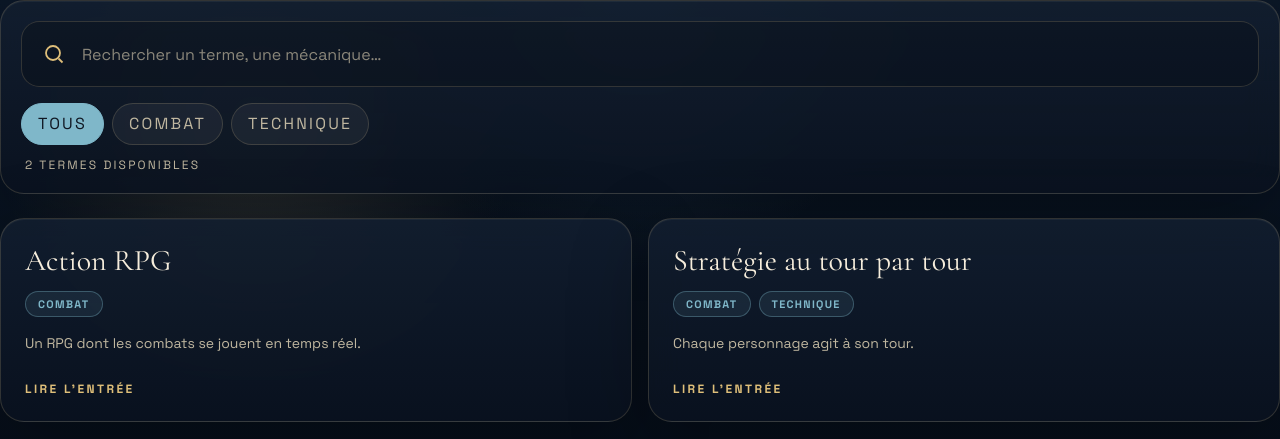
Test case: GlossaryIndex › filtre immédiatement les termes, sans tenir compte des accents
The image size is (1280, 439).
Type "strategie" into the search field.
click(660, 54); type("strategie")  # box x1=82 y1=22 x2=1238 y2=86
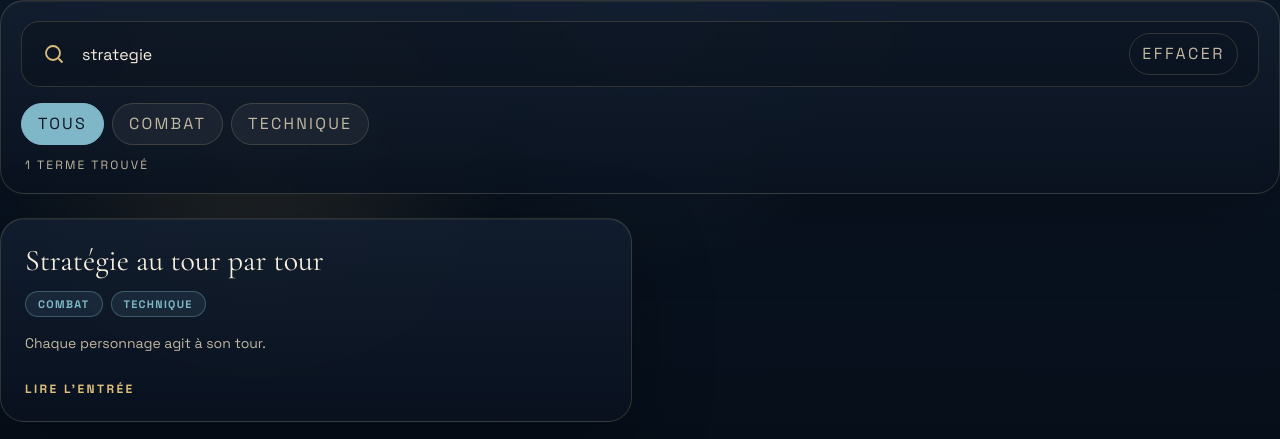
Expected: the heading "Stratégie au tour par tour" is shown, x1=25 y1=242 x2=324 y2=279
Expected: the link "Action RPG" is gone
Expected: the text "1 terme trouvé" is shown, x1=25 y1=157 x2=149 y2=173
